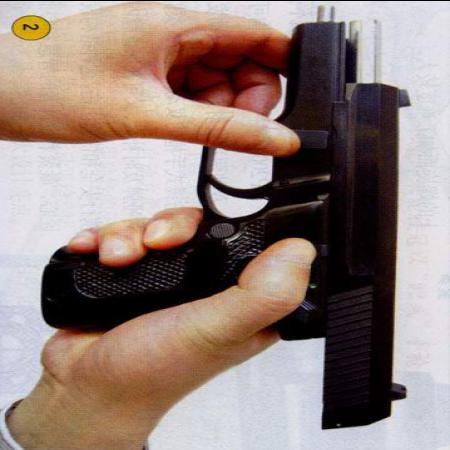Pistol: (30, 4, 412, 421)
